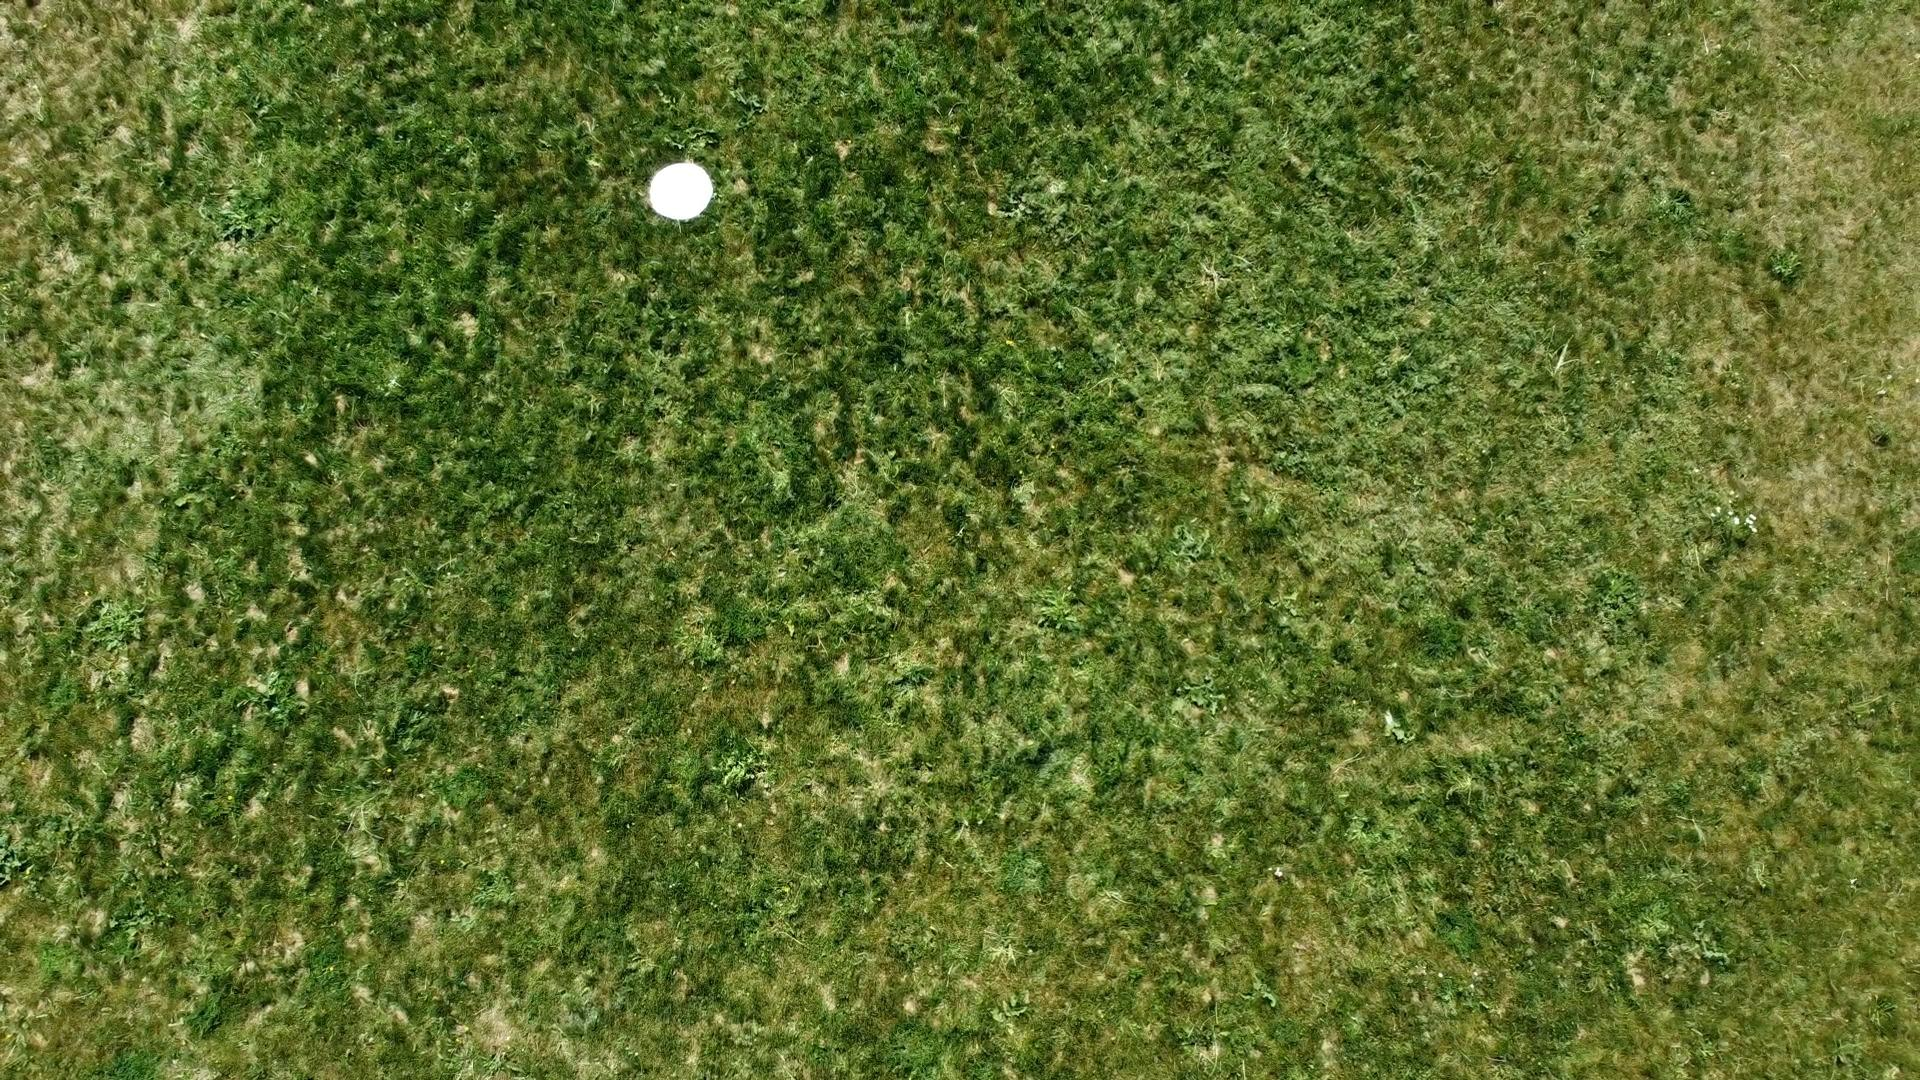Blue: (646, 160, 716, 224)
